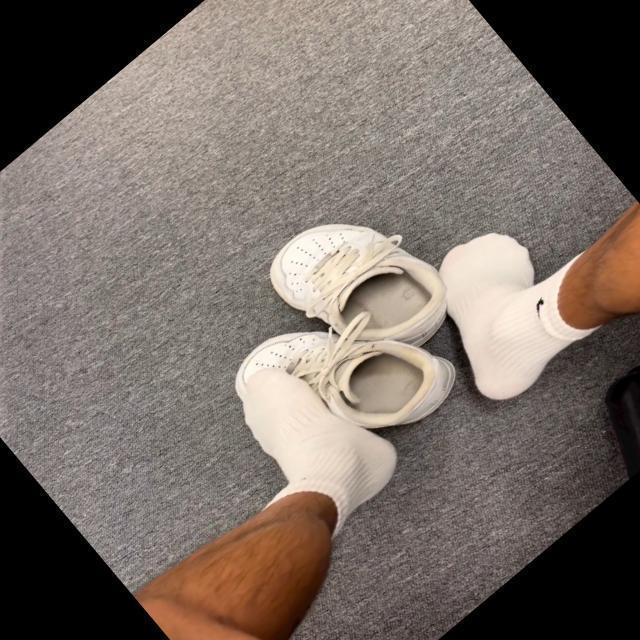nike original air force: (210, 256, 477, 517), (247, 172, 470, 398)
